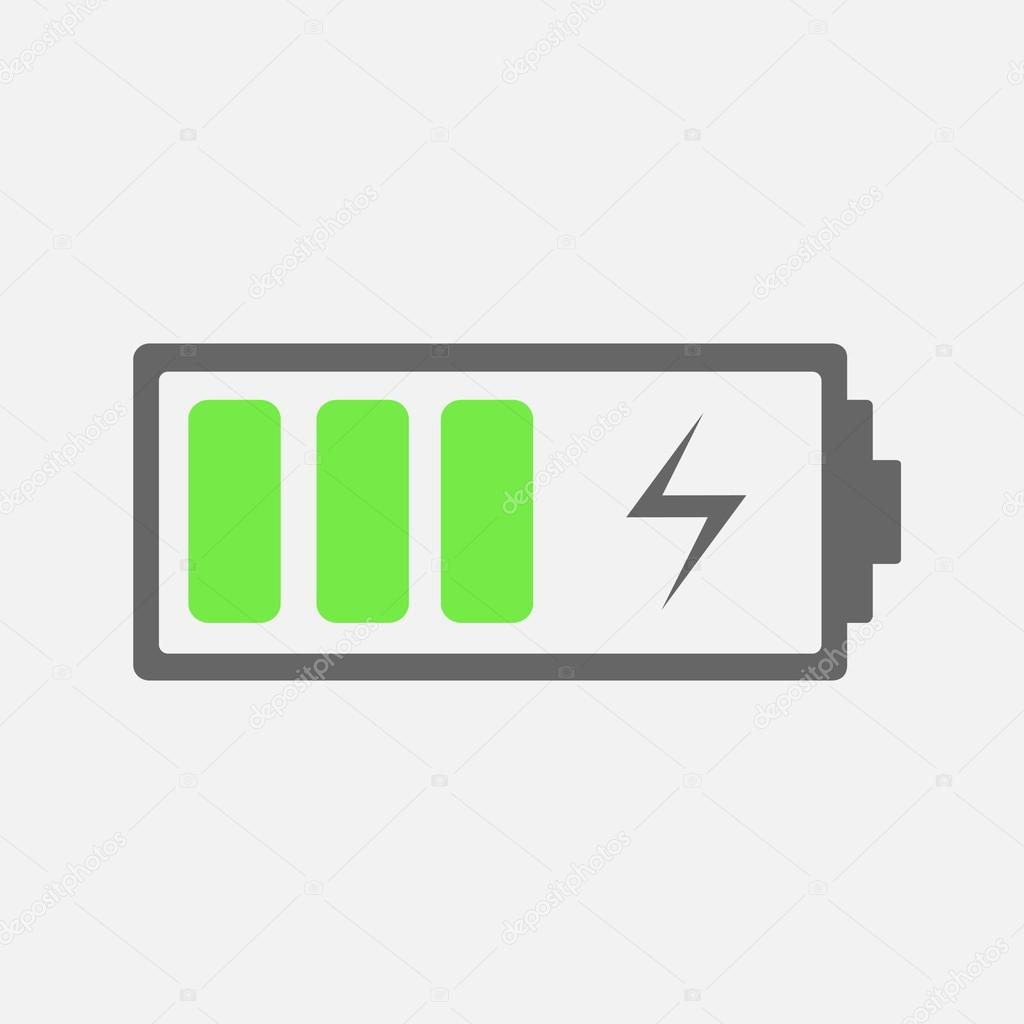charging sign: (97, 302, 956, 731)
